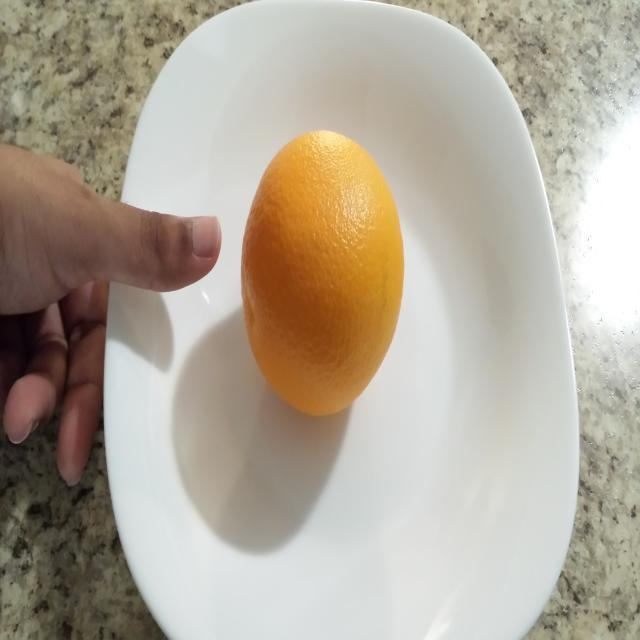Finger: (136, 198, 224, 304)
Orange: (232, 118, 438, 430)
